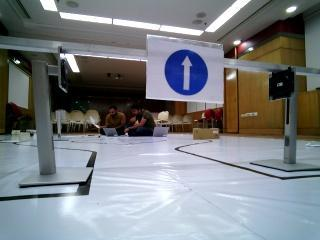straight: (147, 35, 222, 100)
